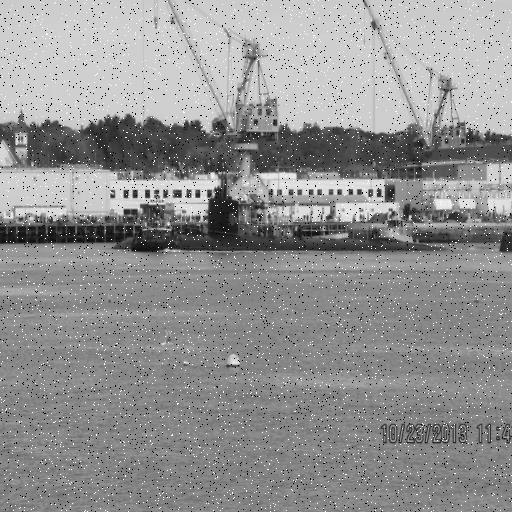submarine: (119, 189, 512, 254)
